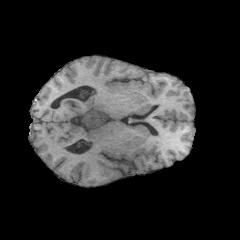glioma: (77, 102, 116, 141)
